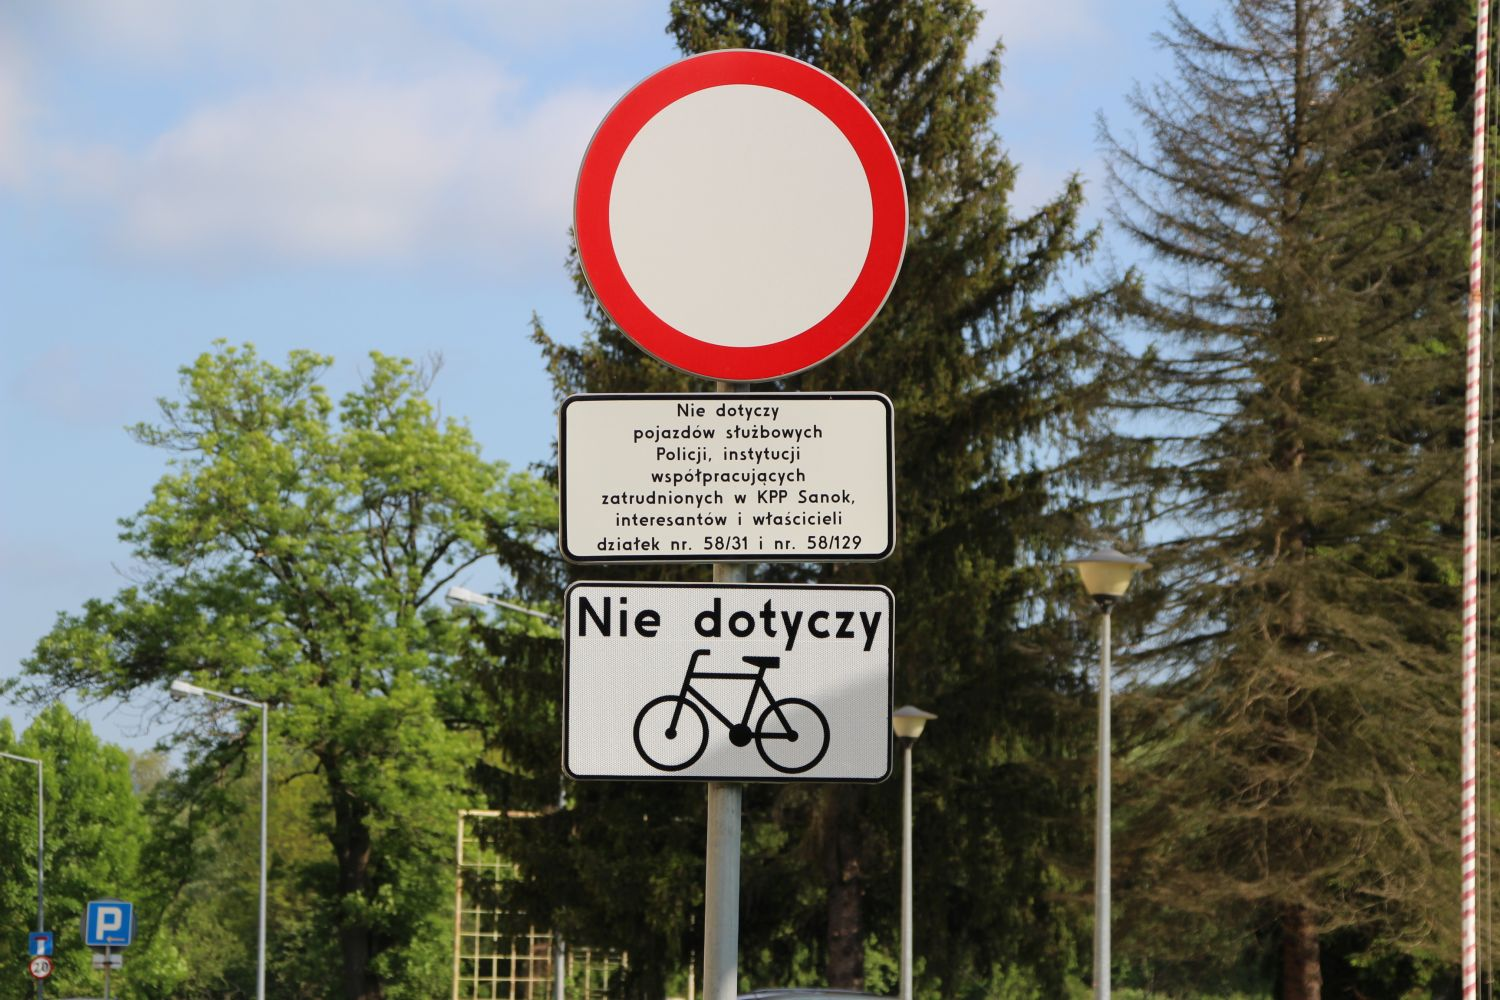no_entry_sign: (573, 48, 910, 383)
